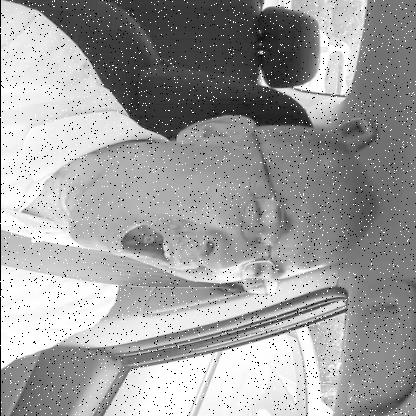seatbelt: (0, 119, 388, 297)
